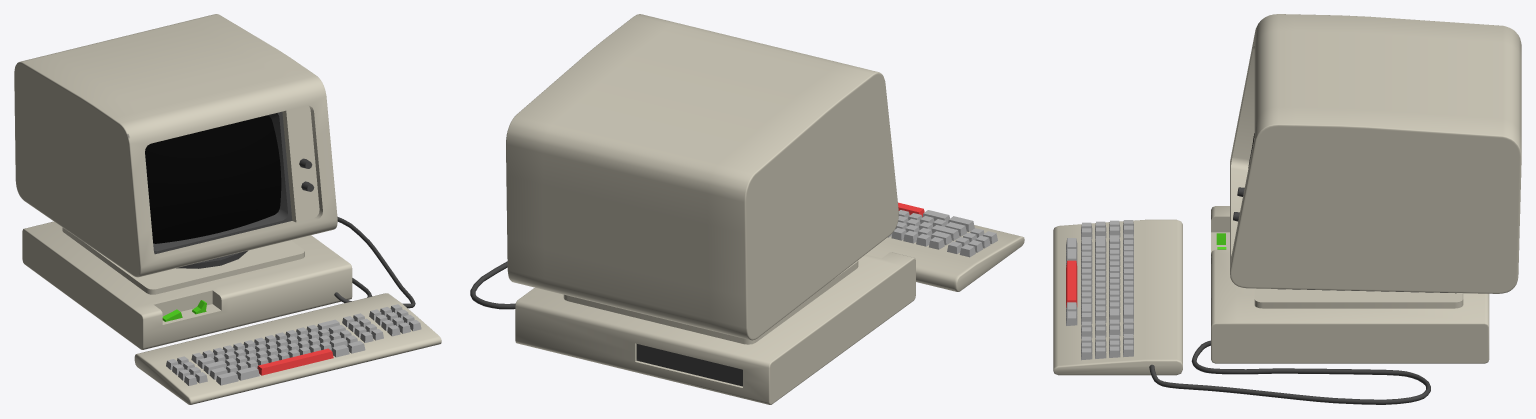
The model's file is Computer.fbx.
3 renders of one model, left to right at view 1: azimuth 30°, elevation 25°; view 2: azimuth 150°, elevation 25°; view 3: azimuth 270°, elevation 25°, orthographic. The views are drawn at different scales.
Visible parts, largest first — view 1: ibm_3178; view 2: ibm_3178; view 3: ibm_3178.
Part boxes in pixels (left/top/right/bottom): ibm_3178: left=14, top=14, right=441, bottom=404; ibm_3178: left=470, top=14, right=1024, bottom=404; ibm_3178: left=1053, top=14, right=1521, bottom=404.
Size of the model in its own units: 3.69 by 2.37 by 4.27.
